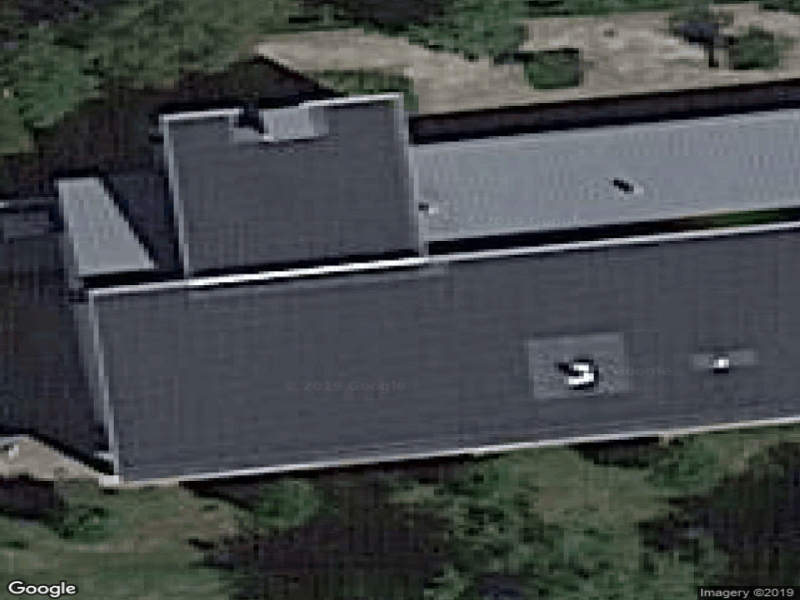pv: (95, 221, 800, 483)
